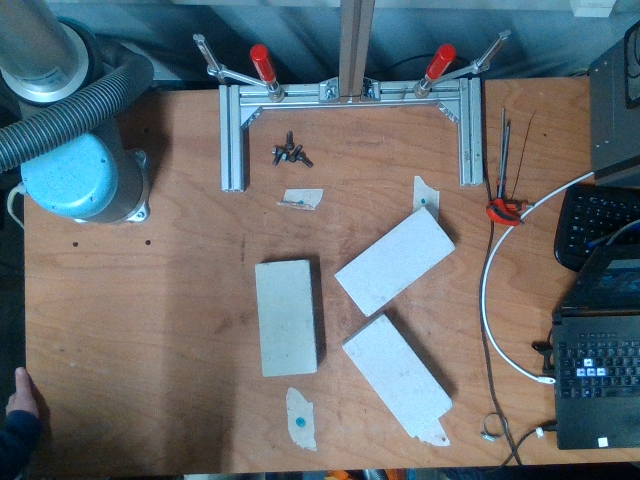brick: (340, 313, 457, 439), (335, 206, 456, 317), (257, 263, 315, 376)
